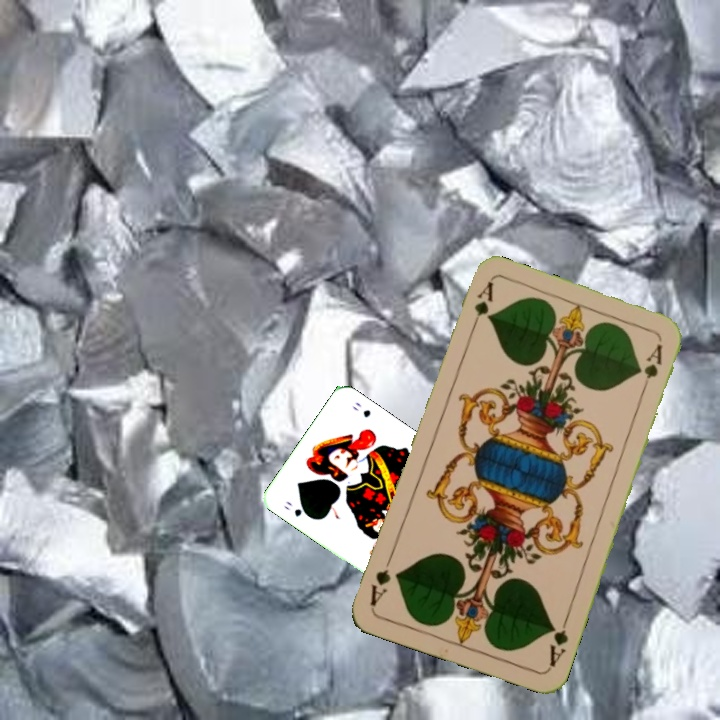GA: (466, 278, 496, 335), (545, 612, 571, 670)
GO: (280, 497, 314, 521)
